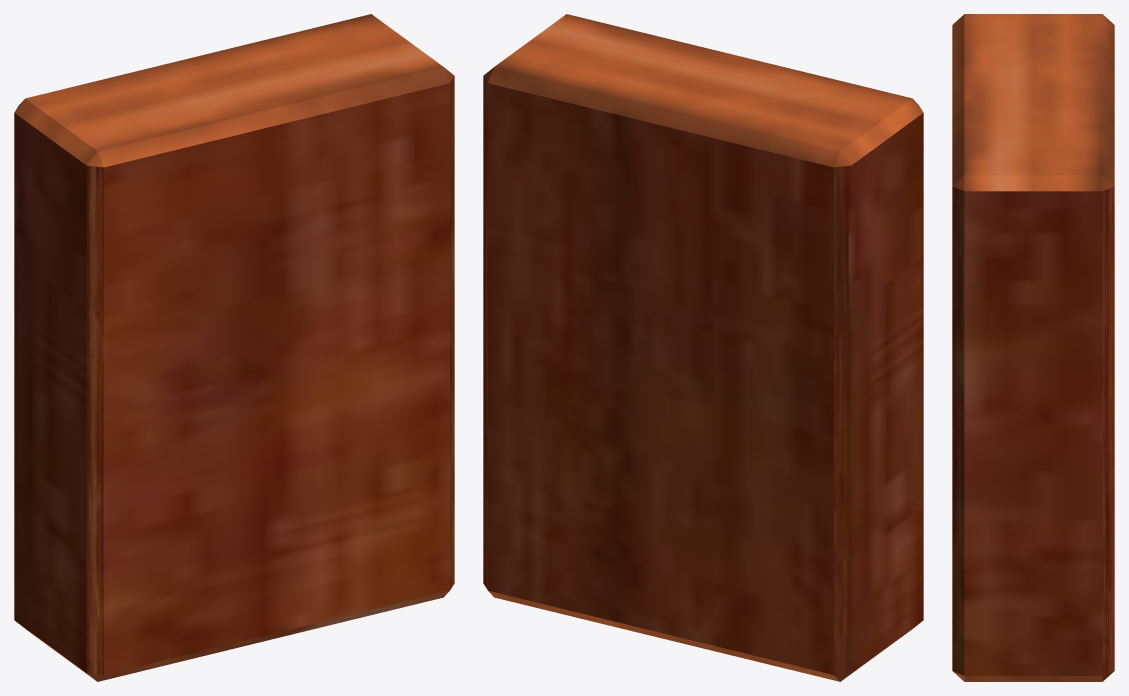
File: ytsy_J_saizi_10.FBX
3 views of the same model, side by side, from view 1: azimuth 30°, elevation 25°; view 2: azimuth 150°, elevation 25°; view 3: azimuth 270°, elevation 25° (orthographic). The views are drawn at different scales.
Visible parts, largest first — view 1: ytsy_J_saizi_10; view 2: ytsy_J_saizi_10; view 3: ytsy_J_saizi_10.
Boxes of the visible parts, x1,y1,x2,y2 form: ytsy_J_saizi_10: (14,14,454,681); ytsy_J_saizi_10: (483,14,923,681); ytsy_J_saizi_10: (952,14,1114,681).
Size of the model in its own units: 2 by 2.76 by 0.8.
